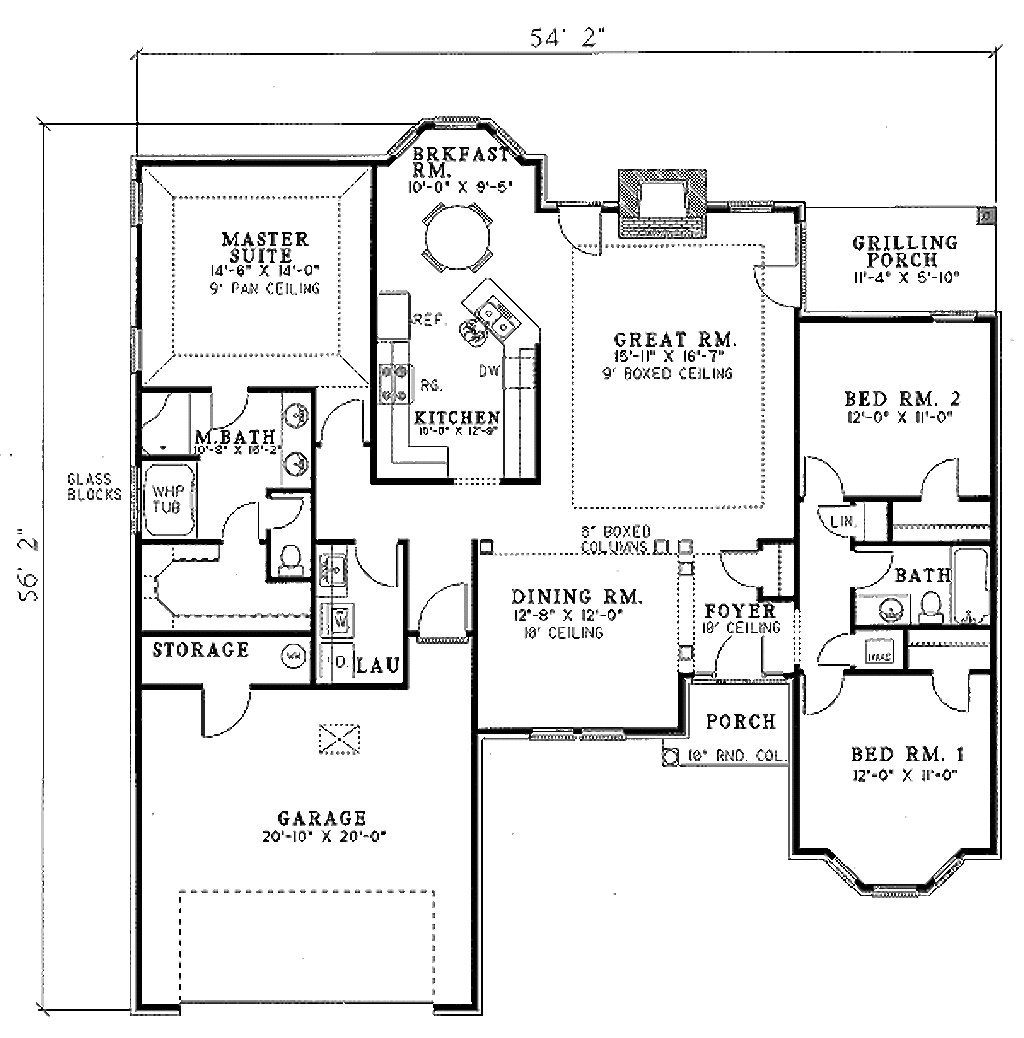door: (712, 623, 770, 688), (193, 681, 254, 742), (412, 579, 468, 643), (554, 201, 606, 261), (352, 530, 402, 590), (319, 395, 370, 448), (912, 453, 967, 502), (213, 498, 261, 554), (750, 260, 797, 312), (713, 545, 762, 593), (801, 670, 851, 716), (205, 385, 252, 432), (846, 545, 892, 591), (799, 450, 842, 499), (928, 670, 972, 717), (266, 492, 306, 536), (815, 501, 860, 539), (815, 627, 853, 672)
large_sink: (265, 536, 307, 580), (909, 581, 946, 628)
round_table: (413, 198, 495, 274)
small_sink: (281, 391, 318, 490), (850, 594, 909, 630)
tub: (138, 463, 204, 539), (947, 545, 989, 630)
window: (386, 109, 525, 171), (817, 849, 971, 900), (522, 724, 636, 745), (724, 197, 781, 222), (931, 304, 982, 331), (123, 320, 142, 381), (128, 175, 142, 235)
